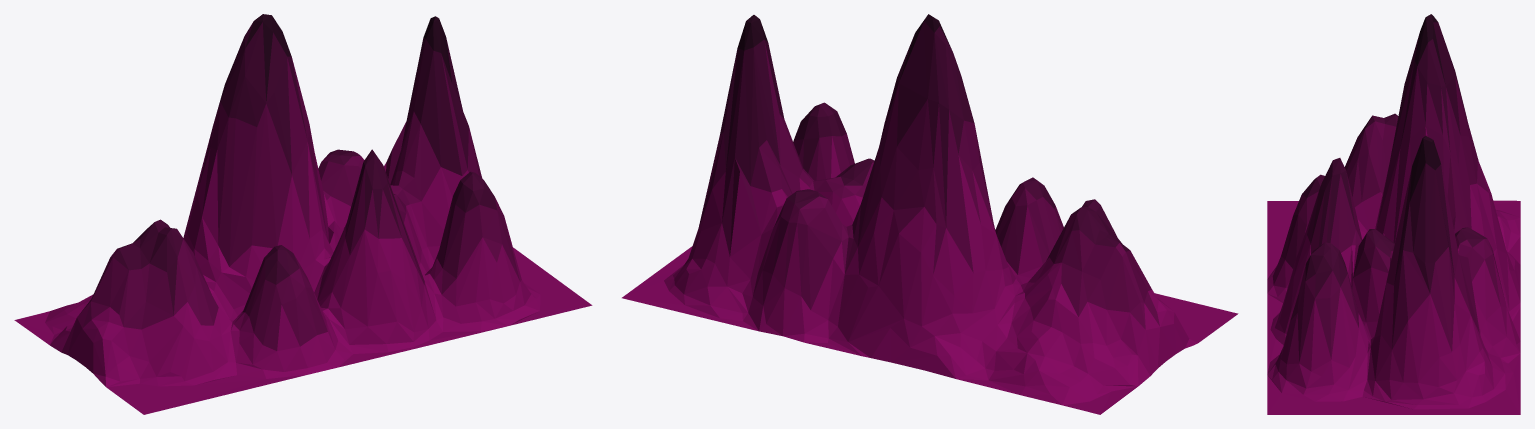
Rendered from MoutainGroup2.fbx.
3 views of the same model, side by side, from view 1: azimuth 30°, elevation 25°; view 2: azimuth 150°, elevation 25°; view 3: azimuth 270°, elevation 25° (orthographic). The views are drawn at different scales.
Parts seen in each view (by area): view 1: MoutainsGroup2Quads.001; view 2: MoutainsGroup2Quads.001; view 3: MoutainsGroup2Quads.001.
Boxes of the visible parts, x1,y1,x2,y2 form: MoutainsGroup2Quads.001: (14,14,592,414); MoutainsGroup2Quads.001: (622,14,1238,414); MoutainsGroup2Quads.001: (1267,14,1520,414).
Size of the model in its own units: 20010 by 12360 by 10006.
